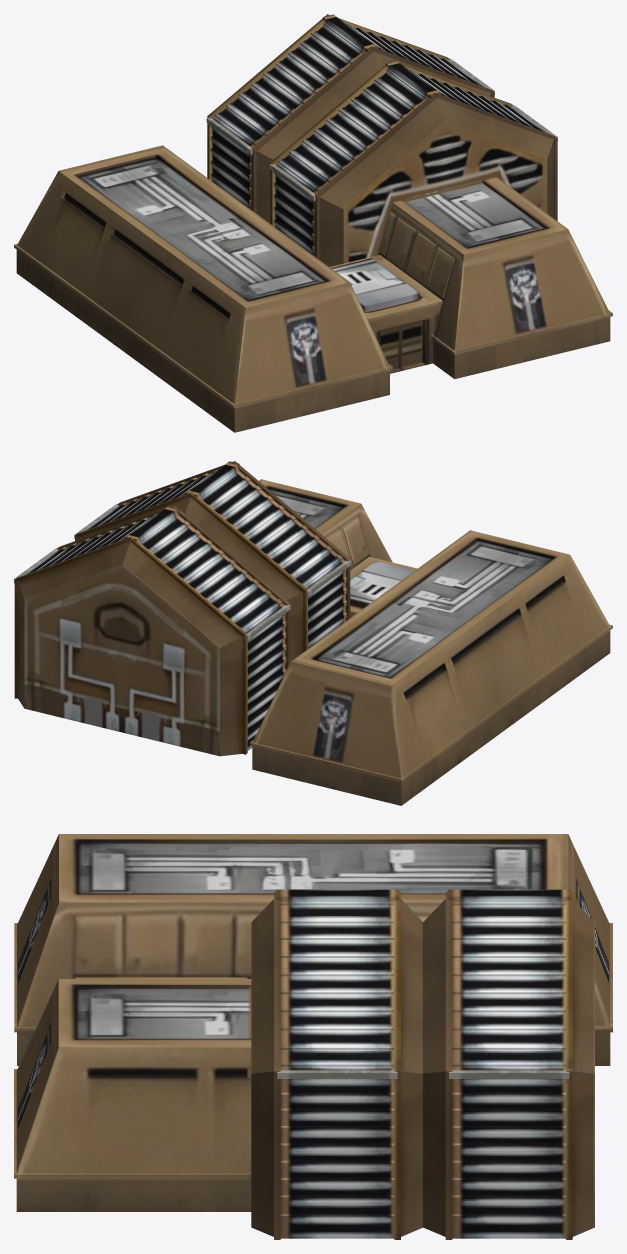
The model's file is hpg_gen_cad.glb.
3 renders of one model, top to bottom at view 1: azimuth 30°, elevation 25°; view 2: azimuth 150°, elevation 25°; view 3: azimuth 270°, elevation 25°, orthographic. The views are drawn at different scales.
Visible parts, largest first — view 1: HPG_Generator; view 2: HPG_Generator; view 3: HPG_Generator.
Part boxes in pixels (left/top/right/bottom): HPG_Generator: left=14, top=14, right=612, bottom=432; HPG_Generator: left=14, top=461, right=612, bottom=805; HPG_Generator: left=14, top=834, right=612, bottom=1239.
Bounding box in the file's own units: 24.04 × 10.75 × 21.77.
Materials: 1 (1 with a texture image).
